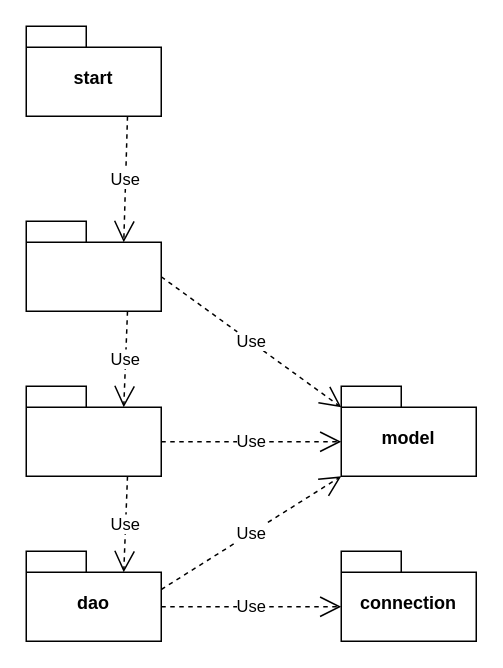
Image size: 503x668. Some labels were removed from this diagram. The centre of each missing label's shape, as x and y in pixels:
"bll" belongs at [93,430].
"p resentation" belongs at [93,265].
